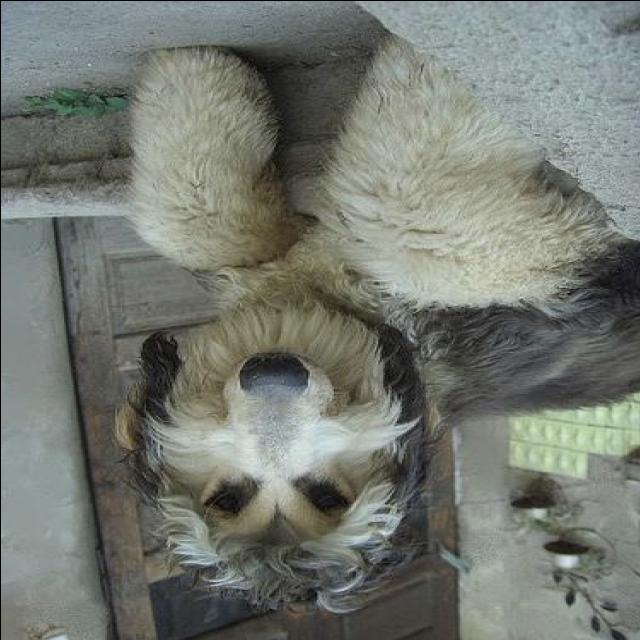afghan_hound: (124, 48, 638, 604)
